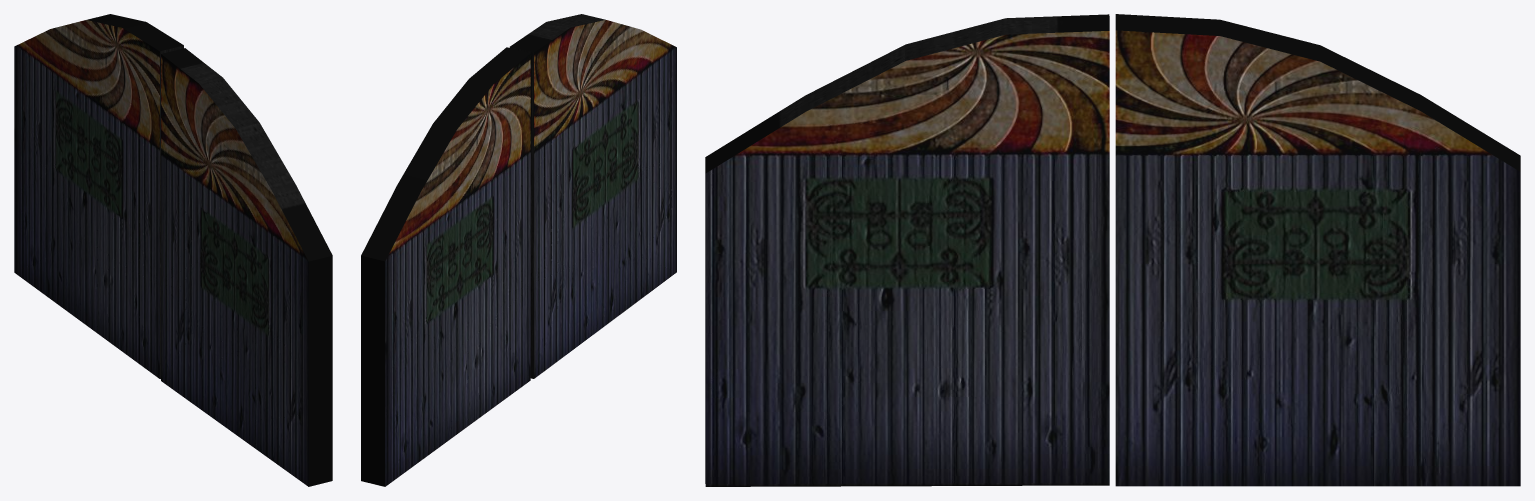
The model's file is brokenDoors.FBX.
3 renders of one model, left to right at view 1: azimuth 30°, elevation 25°; view 2: azimuth 150°, elevation 25°; view 3: azimuth 270°, elevation 25°, orthographic. The views are drawn at different scales.
Parts seen in each view (by area): view 1: fragname019, fragname017, fragname013, fragname003, fragname015, fragname005, fragname007, fragname020, fragname014, fragname004, fragname012, fragname010 (+8 smaller); view 2: fragname009, fragname003, fragname007, fragname017, fragname013, fragname015, fragname010, fragname005, fragname014, fragname002, fragname004, fragname020 (+8 smaller); view 3: fragname007, fragname013, fragname003, fragname005, fragname017, fragname015, fragname004, fragname014, fragname020, fragname019, fragname010, fragname008 (+8 smaller).
Part boxes in pixels (x1,y1,x2,y2): fragname019: (274,177,332,377); fragname017: (227,133,291,348); fragname013: (211,334,332,423); fragname003: (14,163,110,342); fragname015: (179,244,274,359); fragname005: (49,147,138,271); fragname007: (40,21,93,167); fragname020: (182,78,265,222); fragname014: (161,284,218,416); fragname004: (103,259,160,378); fragname012: (221,408,332,486); fragname010: (80,14,144,129); fragname009: (361,183,425,377); fragname003: (361,331,481,423); fragname007: (395,131,464,340); fragname017: (597,21,657,168); fragname013: (583,163,676,341); fragname015: (551,147,643,273); fragname010: (429,80,511,227); fragname005: (420,245,509,355); fragname014: (530,261,589,378); fragname002: (361,408,471,486); fragname004: (474,286,530,415); fragname020: (548,14,610,126); fragname007: (1296,53,1465,313); fragname013: (705,305,973,485); fragname003: (1254,307,1520,486); fragname005: (1165,231,1427,397); fragname017: (777,51,926,309); fragname015: (802,232,1050,393); fragname004: (1115,339,1274,486); fragname014: (952,341,1109,485); fragname020: (888,20,1055,207); fragname019: (705,98,818,335); fragname010: (1174,20,1336,200); fragname008: (1115,113,1300,247).
Bounding box in the file's own units: 6.97 × 82.83 × 134.
Materials: 1 (1 with a texture image).
